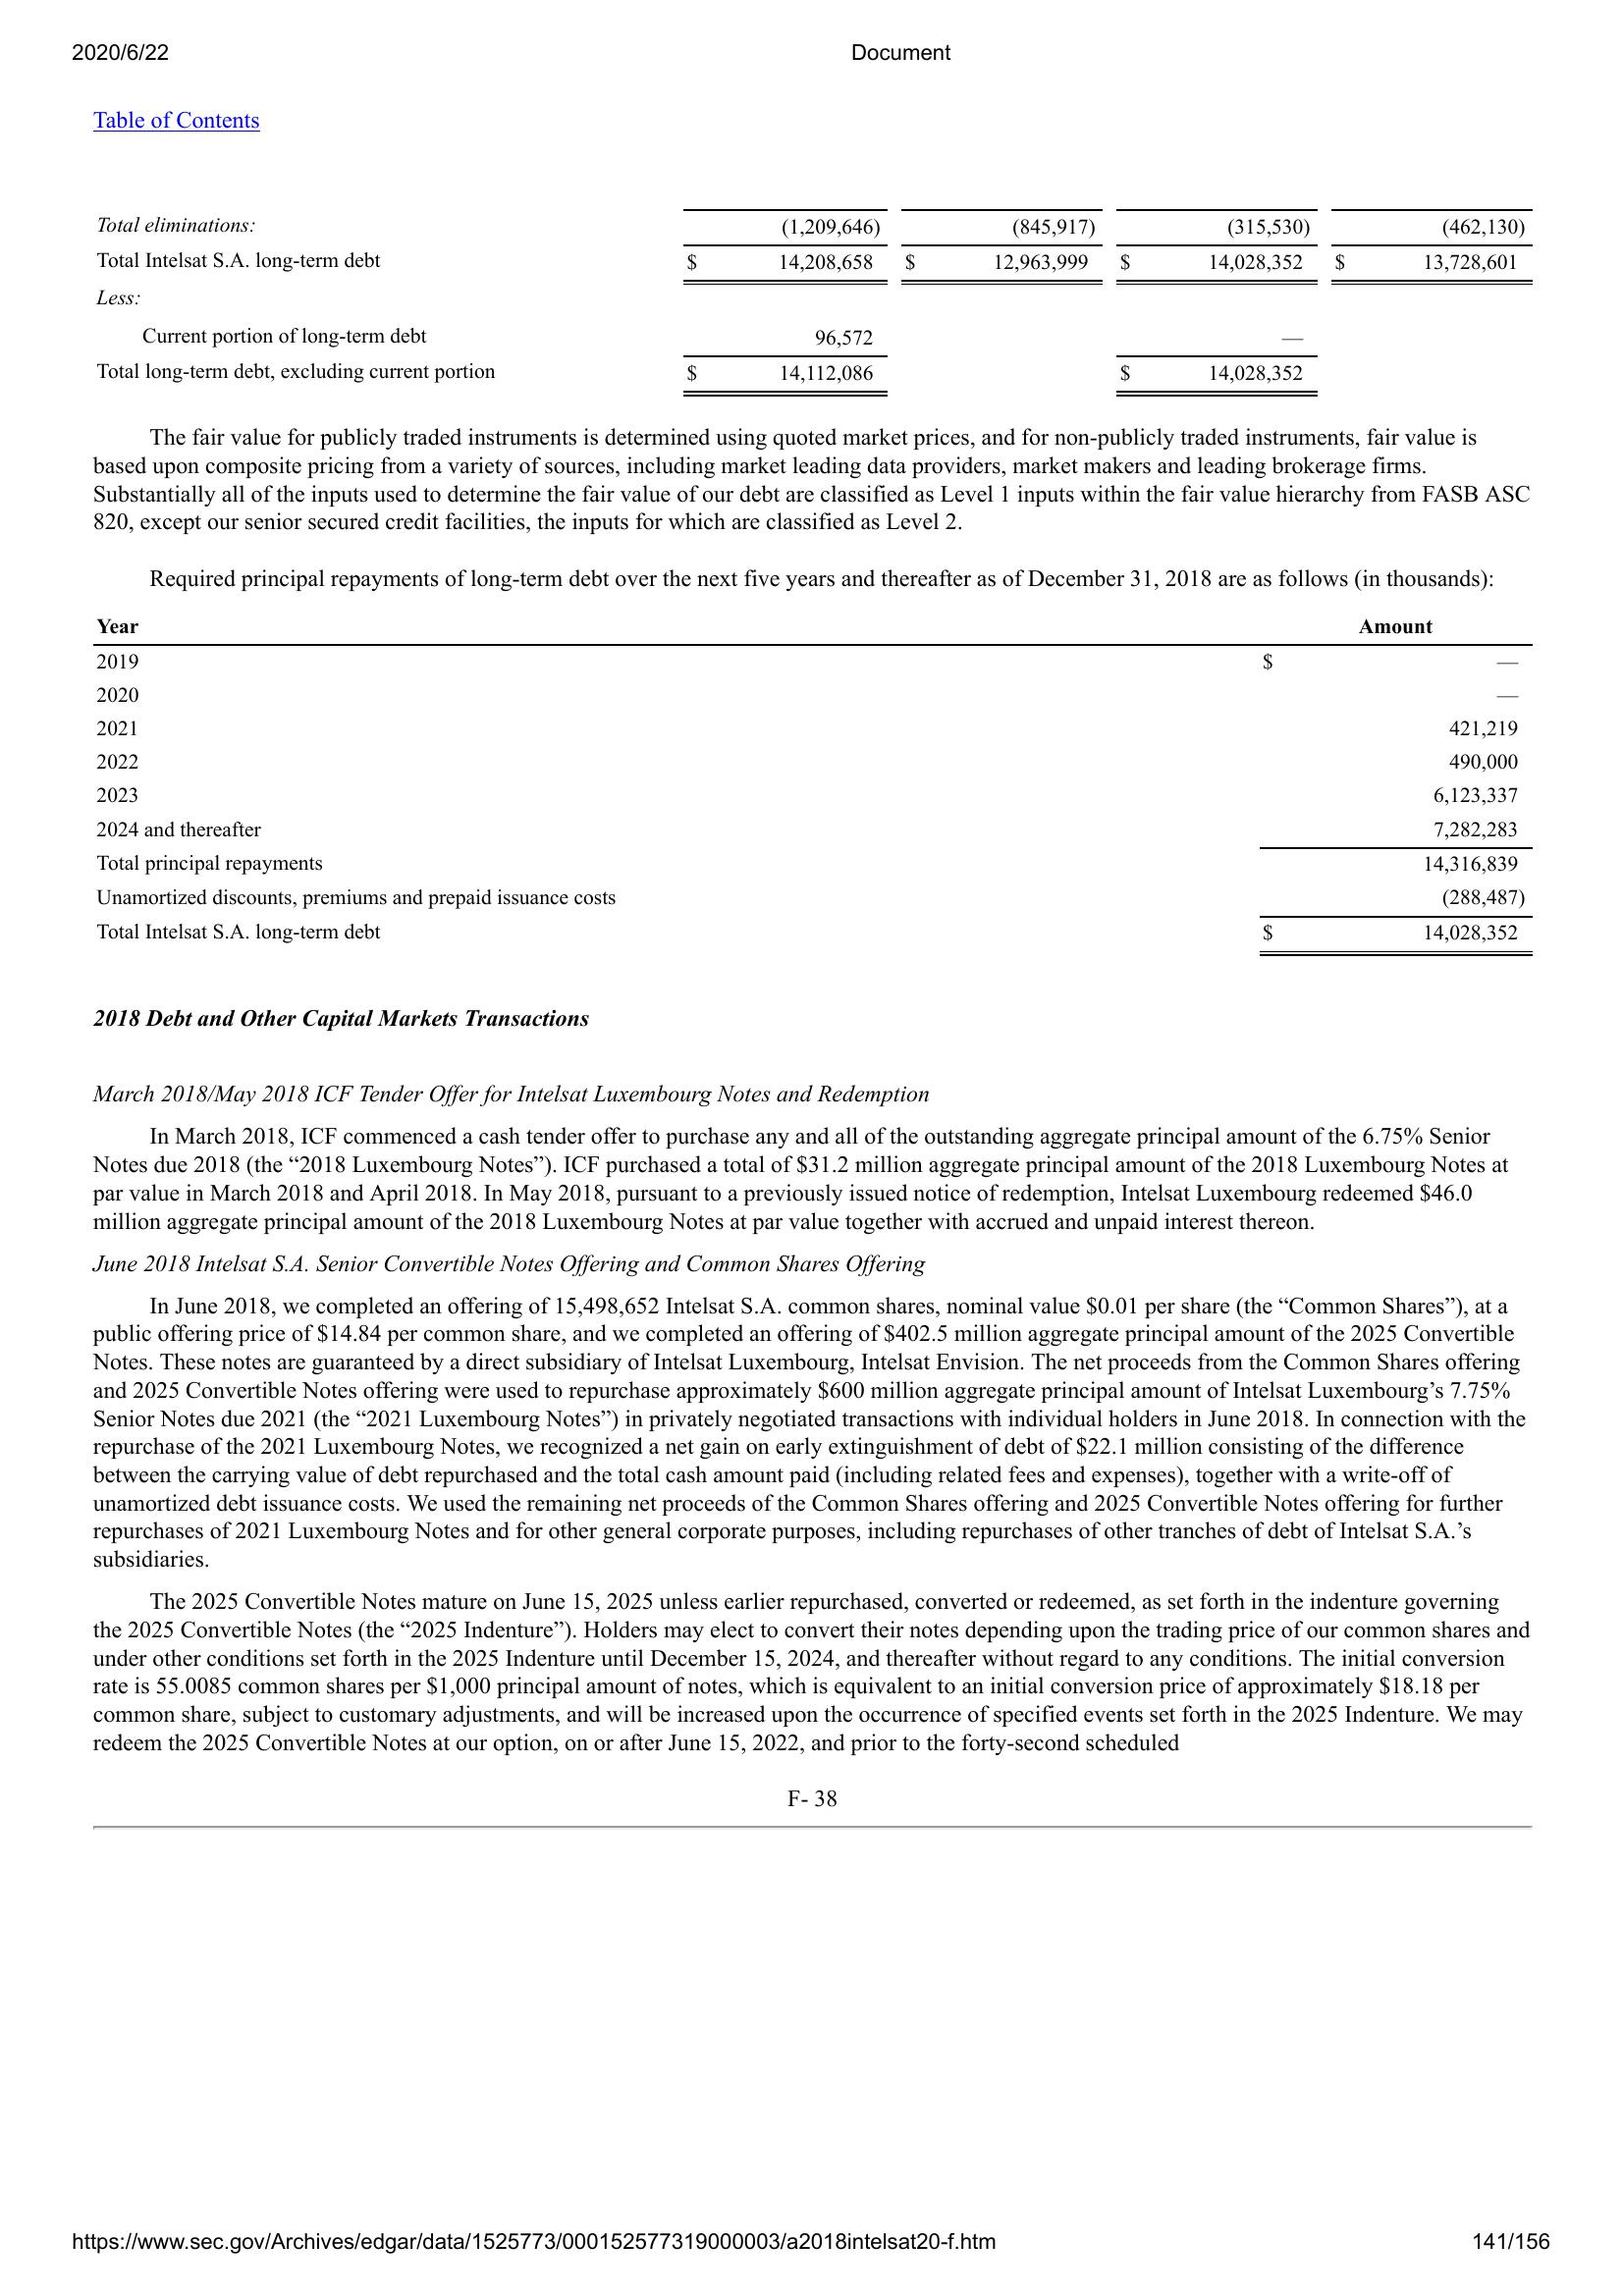table: (74, 607, 1547, 967), (90, 195, 1539, 407)
